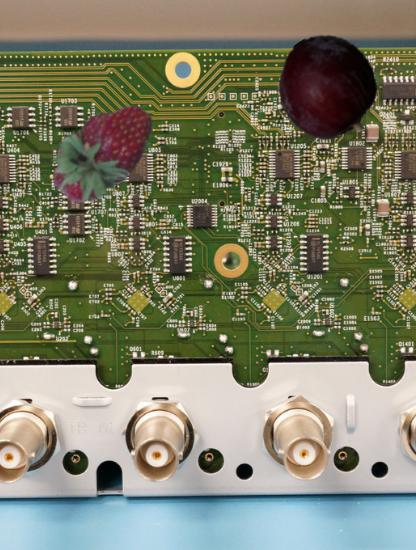Plum: (274, 34, 382, 142)
Strawberry: (41, 91, 160, 210)
